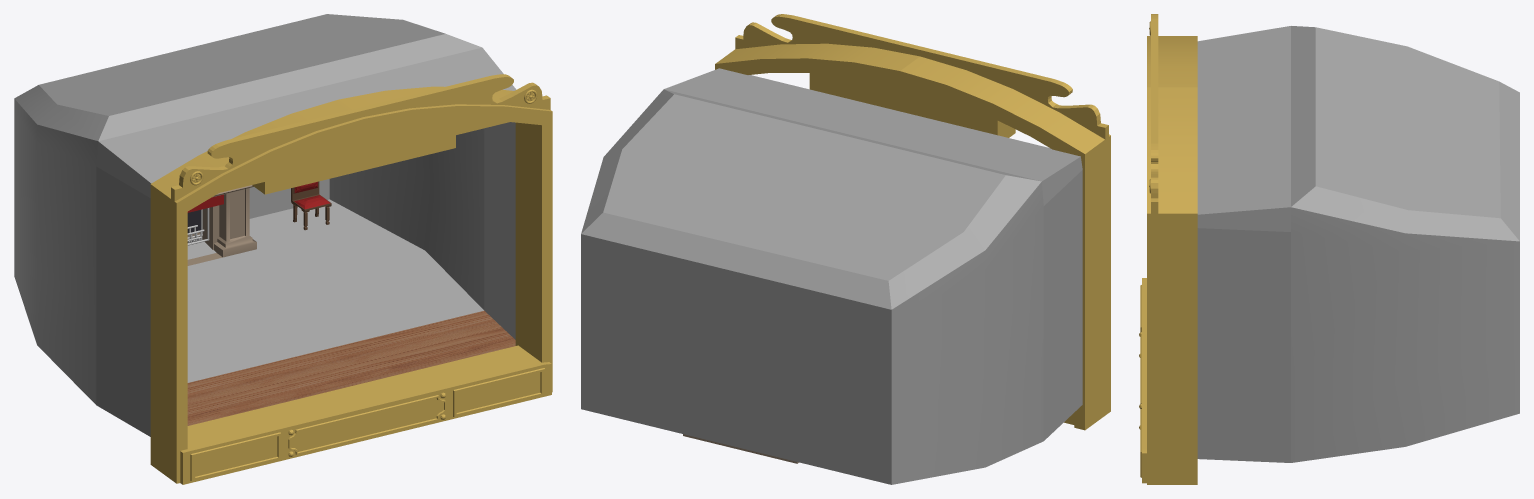
Rendered from Theatre2.fbx.
3 renders of one model, left to right at view 1: azimuth 30°, elevation 25°; view 2: azimuth 150°, elevation 25°; view 3: azimuth 270°, elevation 25°, orthographic. The views are drawn at different scales.
Visible parts, largest first — view 1: TheatreBase1, Mantle, Chair1; view 2: TheatreBase1; view 3: TheatreBase1.
Boxes of the visible parts, <box> form: TheatreBase1: <box>14,14,552,484</box>; Mantle: <box>187,185,256,265</box>; Chair1: <box>291,181,331,230</box>; TheatreBase1: <box>581,14,1110,484</box>; TheatreBase1: <box>1139,14,1519,484</box>.
Size of the model in its own units: 8.54 by 6.85 by 7.5.
Materials: 12 (1 with a texture image).
